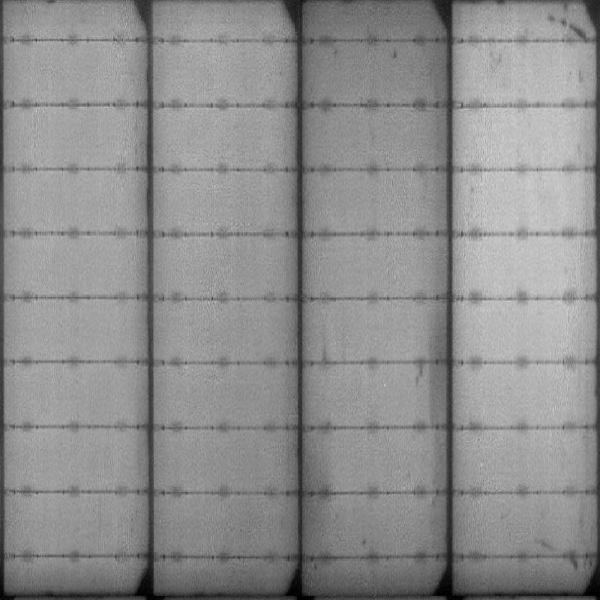scratch: (546, 14, 586, 36)
